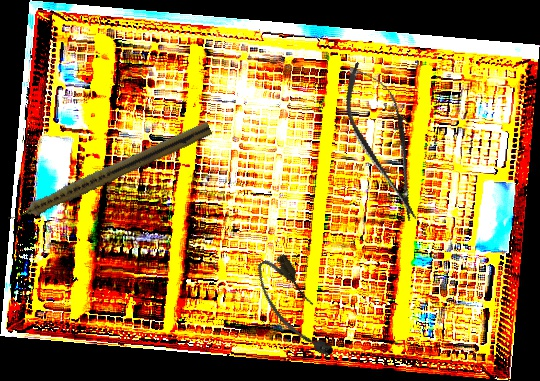Cannula: (249, 249, 341, 369)
Handpiece: (4, 117, 213, 228)
Micro Scissor: (331, 53, 438, 230)
